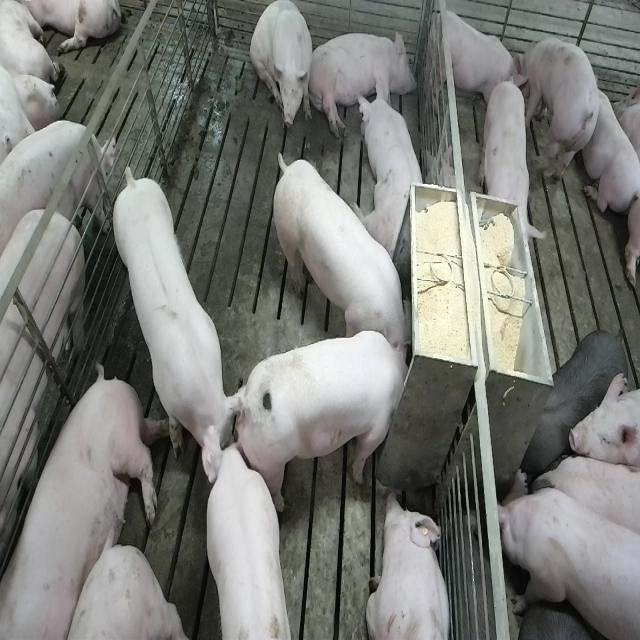Feeding: (243, 330, 419, 511), (268, 144, 411, 360)
Lateral_lying: (4, 364, 169, 640), (307, 28, 417, 140)
Sitting: (250, 3, 314, 137)
Standing: (113, 154, 246, 482), (0, 202, 89, 629), (498, 478, 638, 640), (206, 445, 296, 640), (522, 330, 632, 477), (0, 113, 115, 253), (519, 32, 609, 179), (481, 70, 541, 249)
Sternal_lying: (366, 491, 454, 640), (361, 78, 429, 258), (427, 4, 523, 108), (575, 74, 639, 214)
